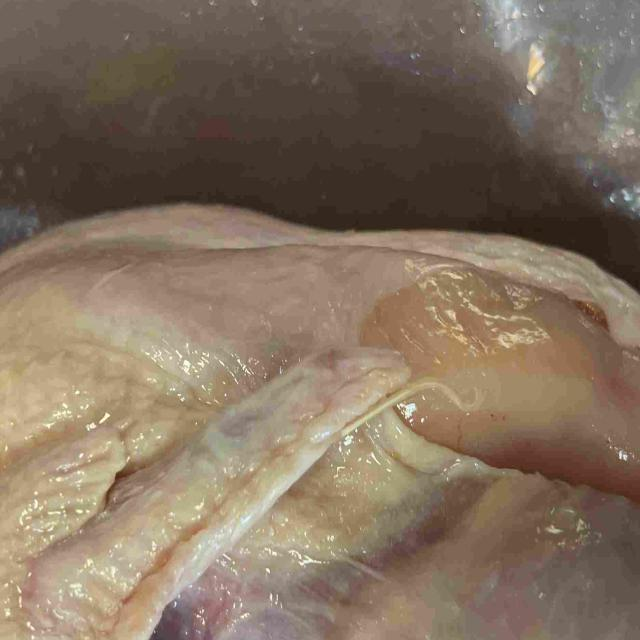leg: (324, 491, 640, 640)
wing: (0, 354, 408, 640)
